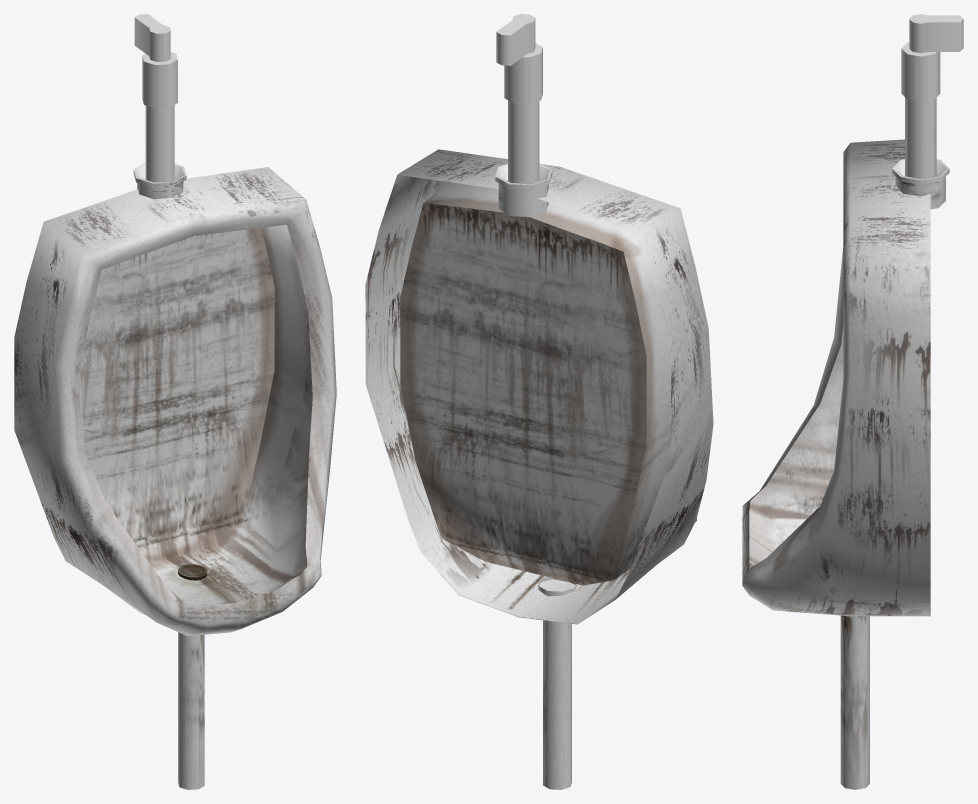
Rendered from Pisuar.fbx.
3 views of the same model, side by side, from view 1: azimuth 30°, elevation 25°; view 2: azimuth 150°, elevation 25°; view 3: azimuth 270°, elevation 25° (orthographic). The views are drawn at different scales.
Parts seen in each view (by area): view 1: Cube.035; view 2: Cube.035; view 3: Cube.035.
Boxes of the visible parts, box(x1,y1,x2,y2) form: Cube.035: box(14, 14, 336, 789); Cube.035: box(365, 14, 713, 789); Cube.035: box(742, 14, 963, 789).
Bounding box in the file's own units: 94.63 × 234 × 61.2.
Materials: 1 (1 with a texture image).
